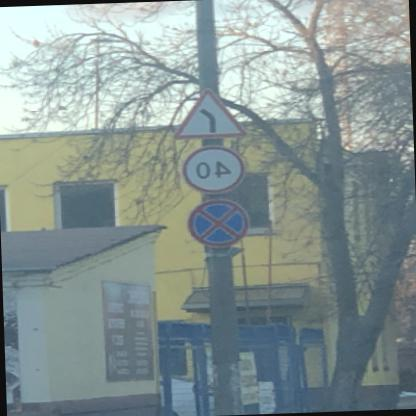speedlimit: (183, 144, 249, 193)
